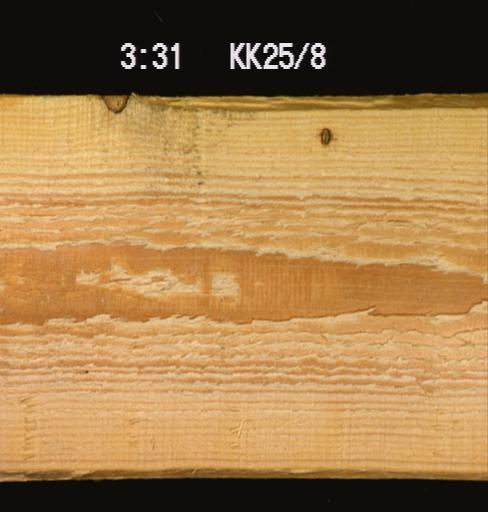dry_knot: (318, 126, 332, 146)
edge_knot: (100, 93, 129, 114)
wave: (0, 453, 487, 481), (133, 91, 487, 110)
